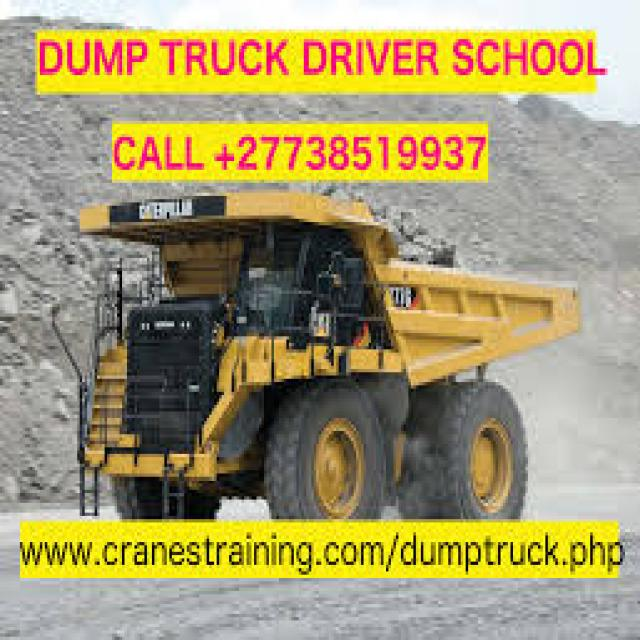dump_truck: (55, 163, 555, 532)
